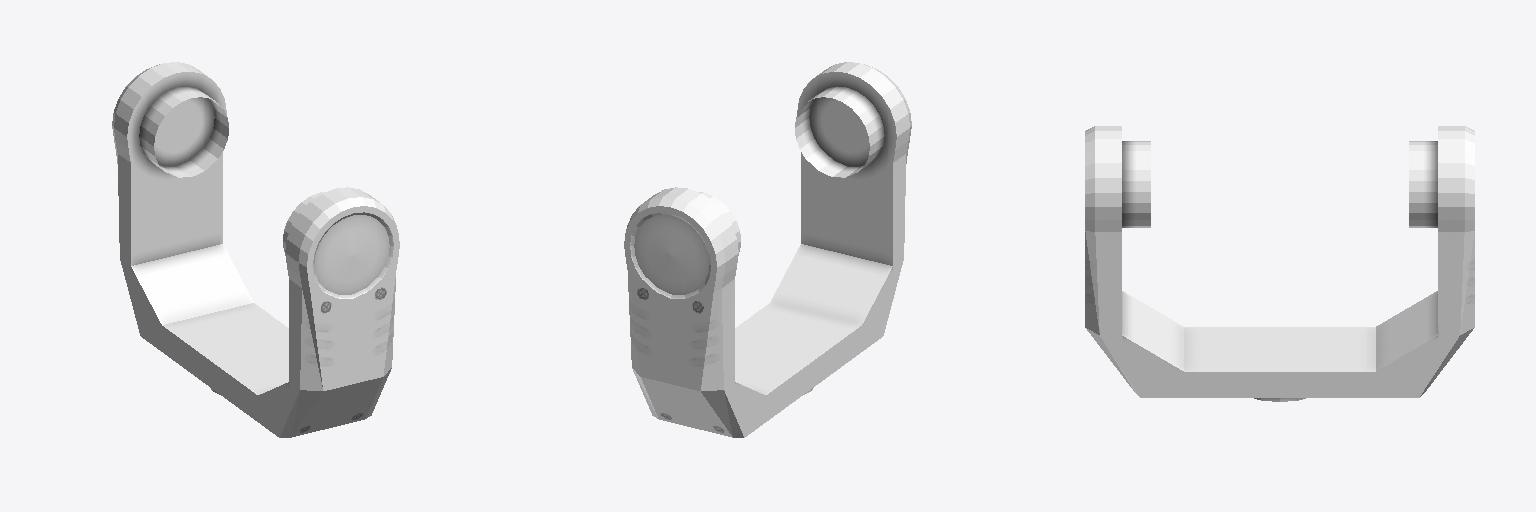
3 views of the same model, side by side, from view 1: azimuth 30°, elevation 25°; view 2: azimuth 150°, elevation 25°; view 3: azimuth 270°, elevation 25° (orthographic).
Visible parts, largest first — view 1: arm_Cube.001; view 2: arm_Cube.001; view 3: arm_Cube.001.
Boxes of the visible parts, box(x1,y1,x2,y2) form: arm_Cube.001: box(112, 62, 399, 437); arm_Cube.001: box(624, 62, 911, 437); arm_Cube.001: box(1085, 126, 1474, 401).
Bounding box in the file's own units: 77.94 × 187 × 264.
1 materials, 1 textured.